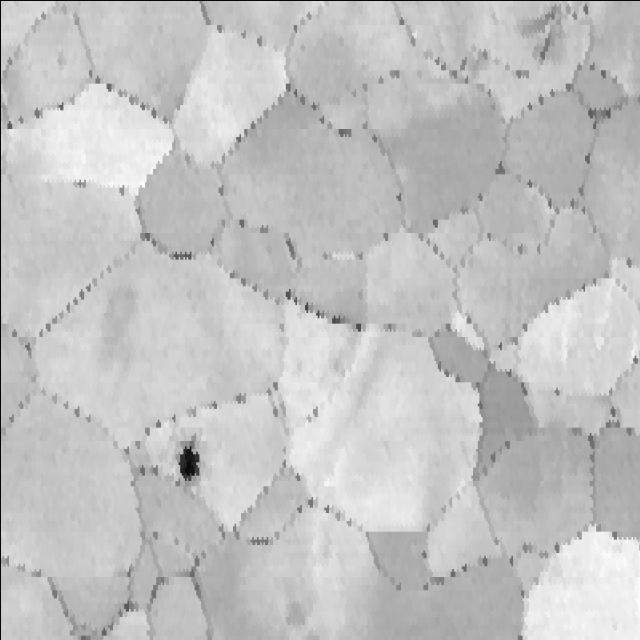good_void: (166, 410, 209, 499), (303, 400, 320, 428)
